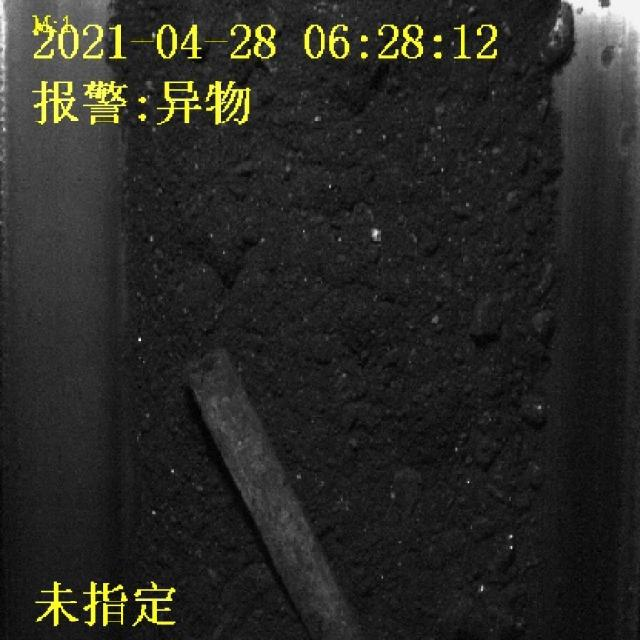bolt: (189, 360, 346, 637)
